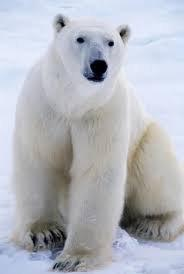bear: (12, 14, 184, 273)
